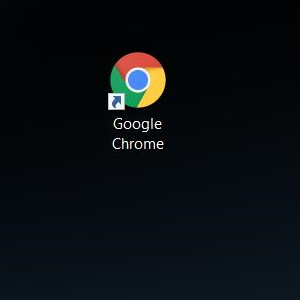chrome: (107, 52, 166, 110)
